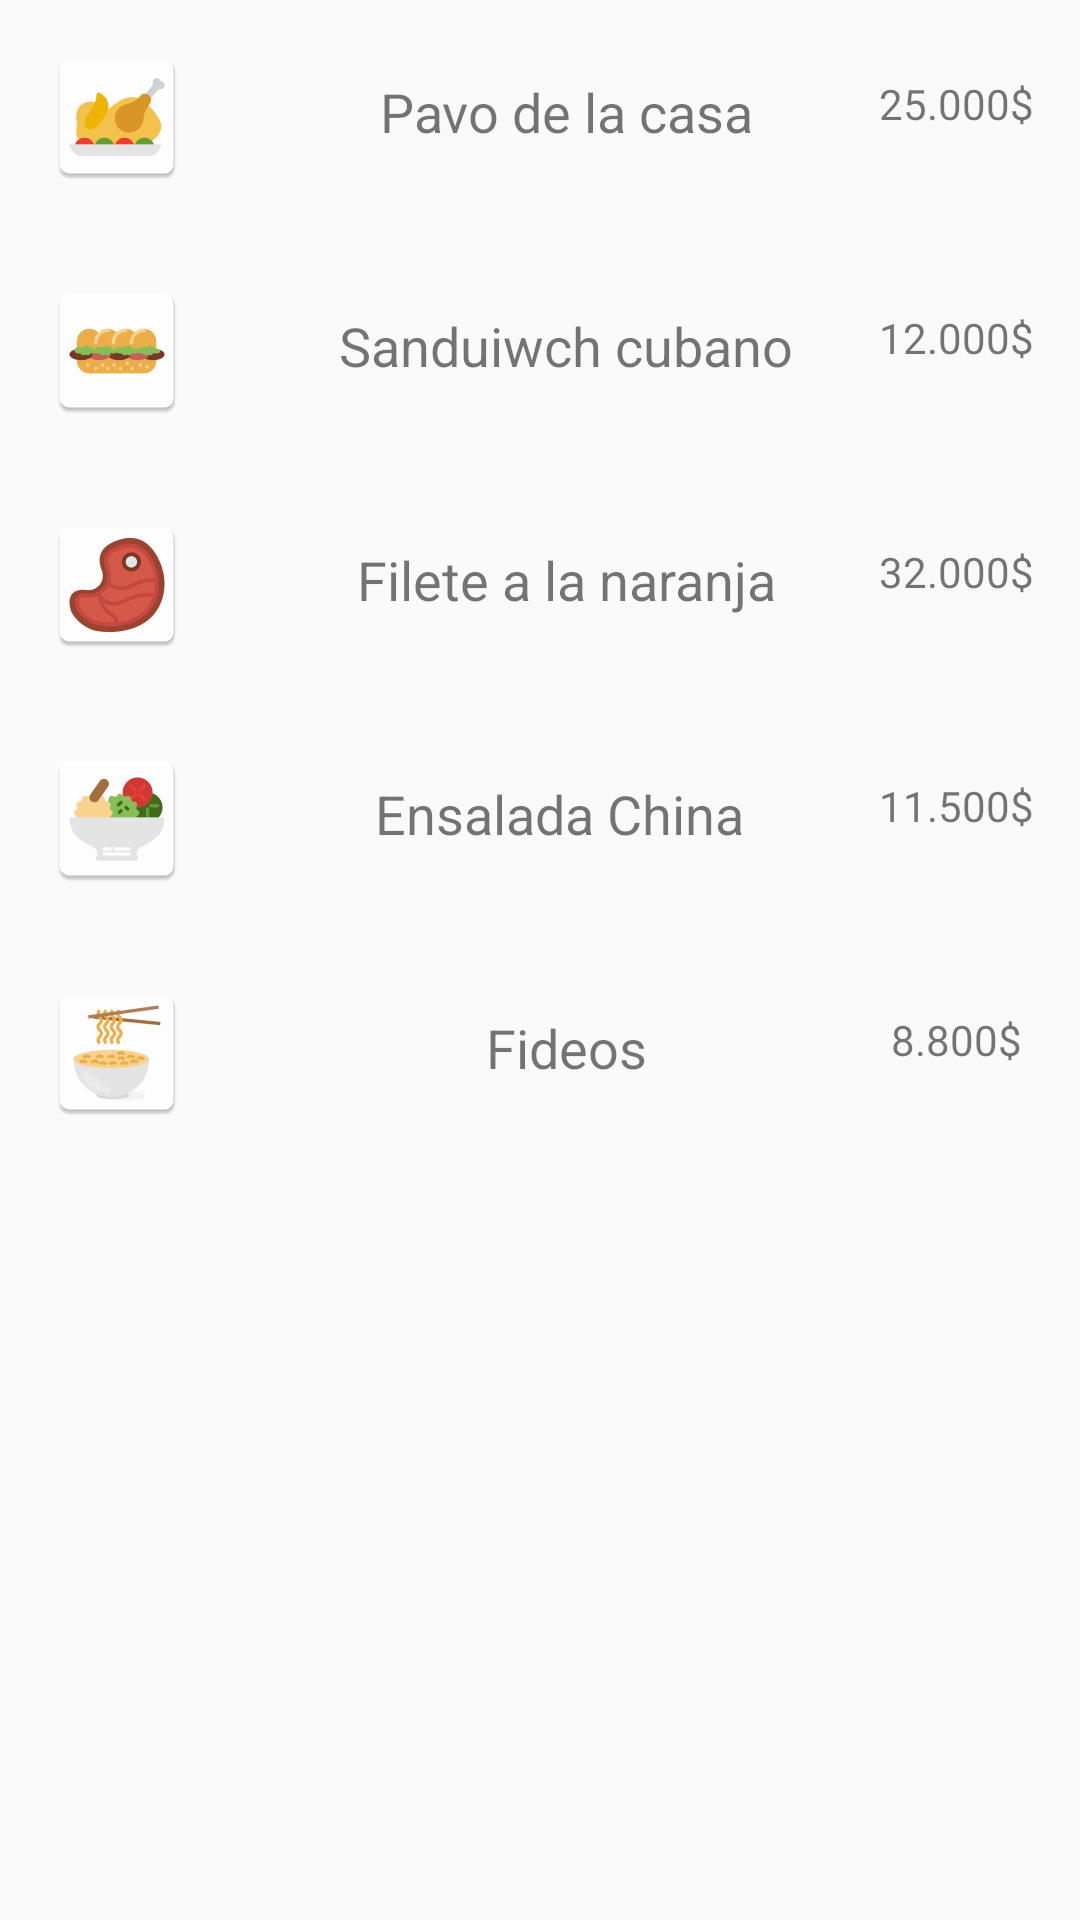

Named icons in this screenshot (1080 × 1920) and their bounding boxes, (x1, y1, x2, y2):
sanduche: (60, 300, 175, 412)
